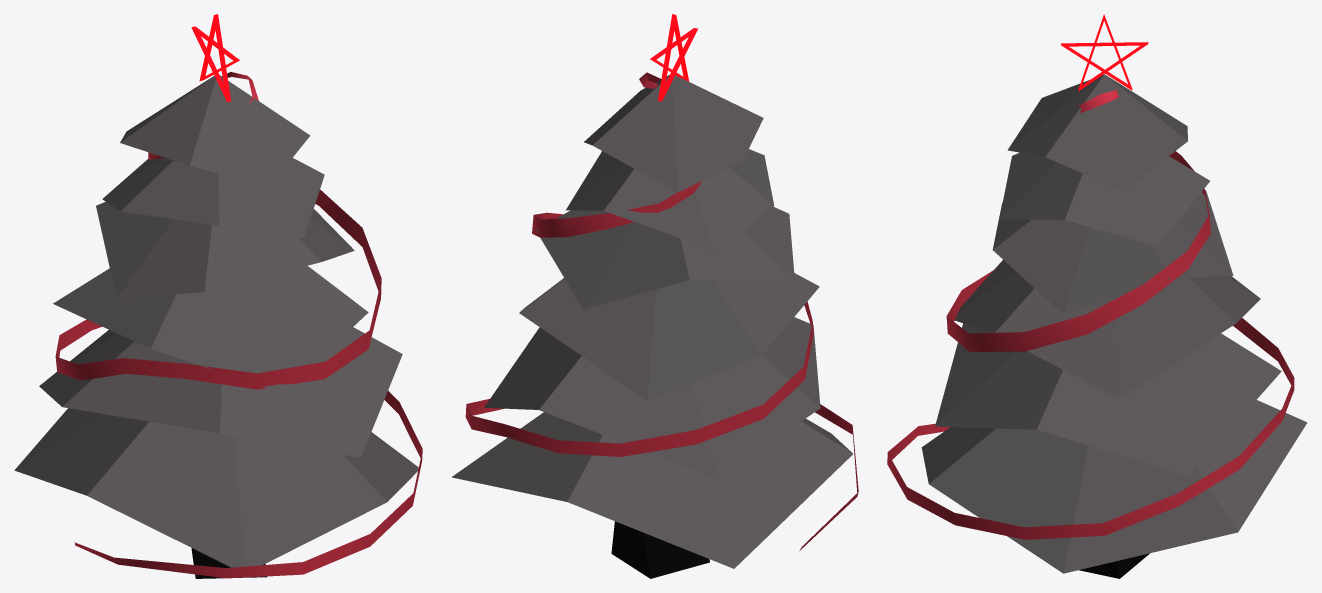
The model's file is evil_tree_with_star.fbx.
3 views of the same model, side by side, from view 1: azimuth 30°, elevation 25°; view 2: azimuth 150°, elevation 25°; view 3: azimuth 270°, elevation 25° (orthographic). The views are drawn at different scales.
Parts seen in each view (by area): view 1: Circle.011, Circle.010, Circle.009, Circle.008, Veil_Thick.002, Circle.006, Circle.007, pentagram; view 2: Circle.011, Circle.010, Circle.009, Circle.008, Circle.006, Circle.007, Veil_Thick.002, Cube.001, pentagram; view 3: Circle.011, Circle.010, Circle.009, Circle.008, Veil_Thick.002, Circle.006, Circle.007, pentagram, Cube.001.
Boxes of the visible parts, x1=… form: Circle.011: x1=14, y1=408, x2=418, y2=567; Circle.010: x1=39, y1=327, x2=402, y2=457; Circle.009: x1=53, y1=265, x2=368, y2=393; Circle.008: x1=96, y1=201, x2=354, y2=298; Veil_Thick.002: x1=55, y1=72, x2=422, y2=578; Circle.006: x1=120, y1=75, x2=310, y2=186; Circle.007: x1=102, y1=157, x2=324, y2=238; pentagram: x1=191, y1=14, x2=239, y2=102; Circle.011: x1=452, y1=412, x2=852, y2=568; Circle.010: x1=484, y1=317, x2=820, y2=478; Circle.009: x1=519, y1=273, x2=819, y2=400; Circle.008: x1=536, y1=206, x2=794, y2=309; Circle.006: x1=584, y1=75, x2=763, y2=192; Circle.007: x1=566, y1=149, x2=774, y2=250; Veil_Thick.002: x1=465, y1=72, x2=858, y2=551; Cube.001: x1=611, y1=521, x2=709, y2=578; pentagram: x1=650, y1=14, x2=697, y2=101; Circle.011: x1=921, y1=400, x2=1307, y2=573; Circle.010: x1=935, y1=323, x2=1281, y2=476; Circle.009: x1=955, y1=260, x2=1260, y2=398; Circle.008: x1=992, y1=190, x2=1233, y2=314; Veil_Thick.002: x1=887, y1=88, x2=1294, y2=539; Circle.006: x1=1008, y1=74, x2=1187, y2=190; Circle.007: x1=999, y1=152, x2=1209, y2=246; pentagram: x1=1061, y1=14, x2=1148, y2=91; Cube.001: x1=1079, y1=553, x2=1149, y2=578.
Size of the model in its own units: 790 by 1229 by 871.
